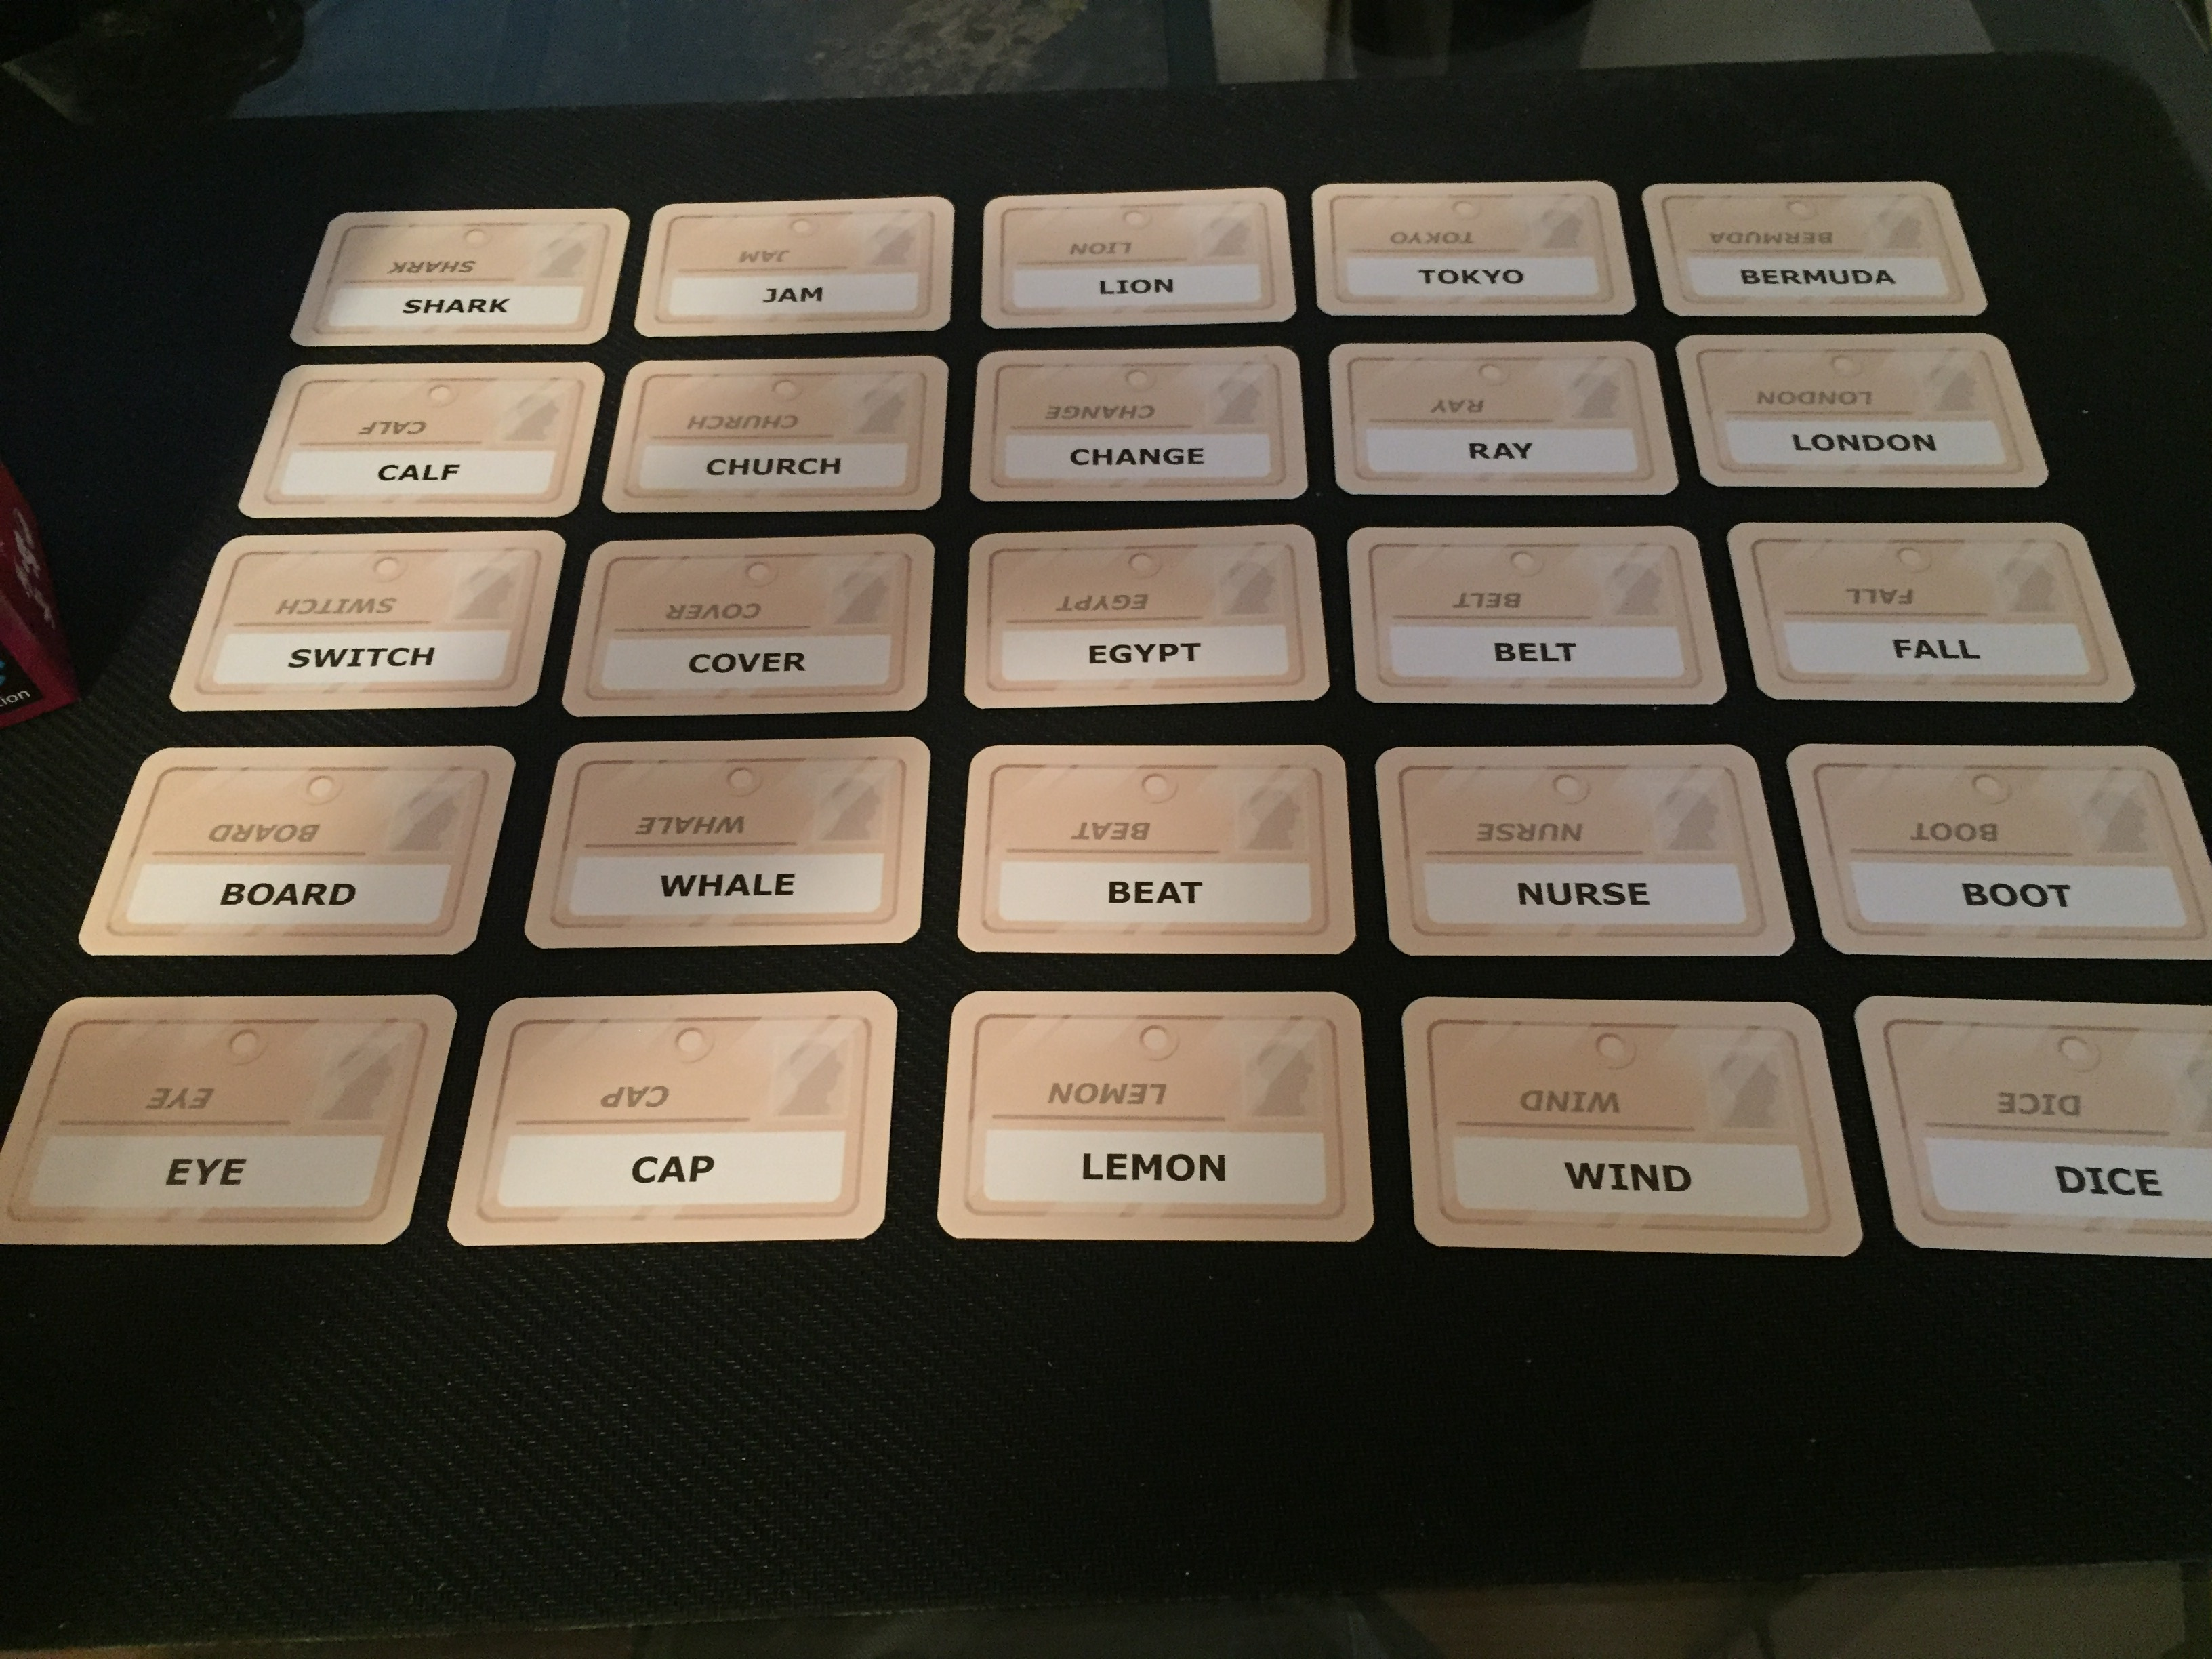A: (272, 877, 298, 917), (1911, 627, 1937, 667), (725, 866, 751, 906), (660, 1148, 688, 1185), (1115, 437, 1137, 472), (1155, 875, 1179, 906), (1872, 263, 1898, 291), (1491, 436, 1514, 467), (444, 293, 465, 322), (399, 457, 420, 486), (775, 279, 798, 305)
